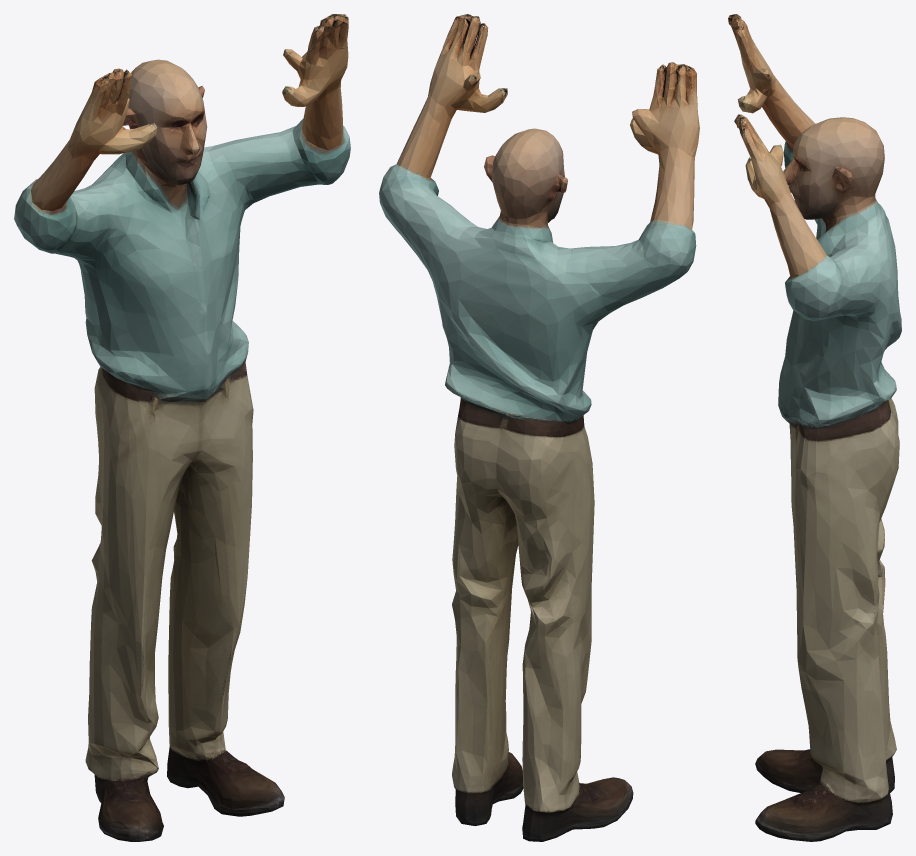
Rendered from civilian_up.glb.
The picture shows the model from 3 angles, left to right: view 1: azimuth 30°, elevation 25°; view 2: azimuth 150°, elevation 25°; view 3: azimuth 270°, elevation 25°; orthographic projection. The views are drawn at different scales.
Parts seen in each view (by area): view 1: geometry_0; view 2: geometry_0; view 3: geometry_0.
Part boxes in pixels (x1,y1,x2,y2): geometry_0: (14, 14, 350, 841); geometry_0: (379, 14, 699, 841); geometry_0: (728, 14, 901, 841).
Bounding box in the file's own units: 0.4294 × 0.9999 × 0.2126.
1 material, 1 textured.
